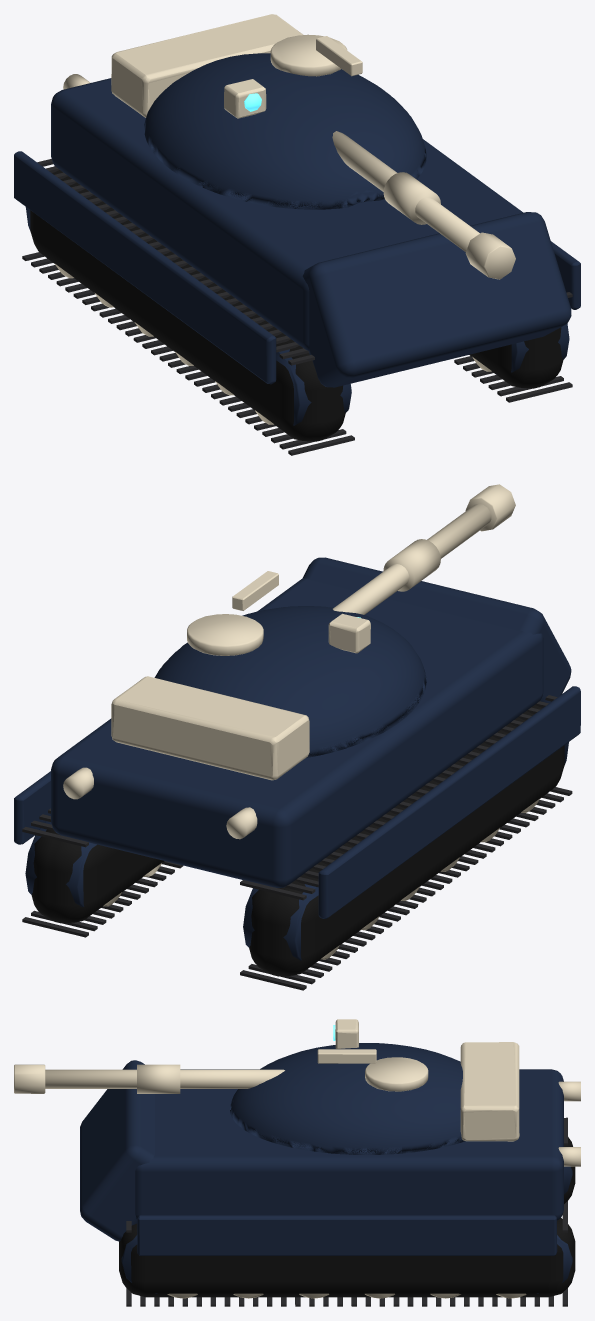
File: kampvogn_hellerup.glb
3 views of the same model, one above another, from view 1: azimuth 30°, elevation 25°; view 2: azimuth 150°, elevation 25°; view 3: azimuth 270°, elevation 25° (orthographic). The views are drawn at different scales.
Parts seen in each view (by area): view 1: krop_net; view 2: krop_net; view 3: krop_net.
Part boxes in pixels (left/top/right/bottom): krop_net: left=14, top=14, right=580, bottom=455; krop_net: left=14, top=484, right=580, bottom=990; krop_net: left=14, top=1019, right=580, bottom=1306.
Bounding box in the file's own units: 1.17 × 0.937 × 2.23.
